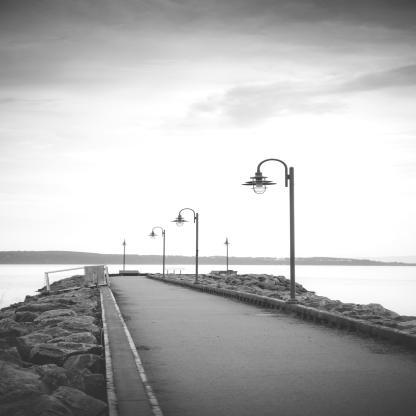light_pole: (242, 159, 301, 304), (171, 208, 201, 284), (149, 225, 167, 280), (222, 238, 231, 275), (120, 239, 128, 273)
